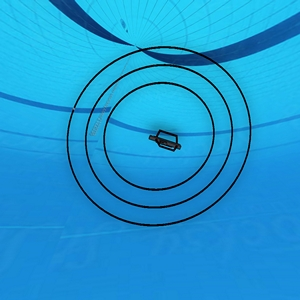circle: (68, 45, 251, 228)
submarine: (149, 128, 183, 151)
